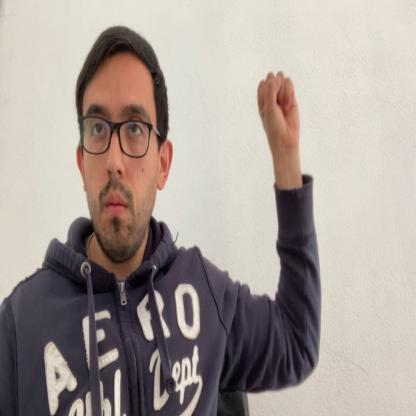S: (258, 71, 301, 151)
